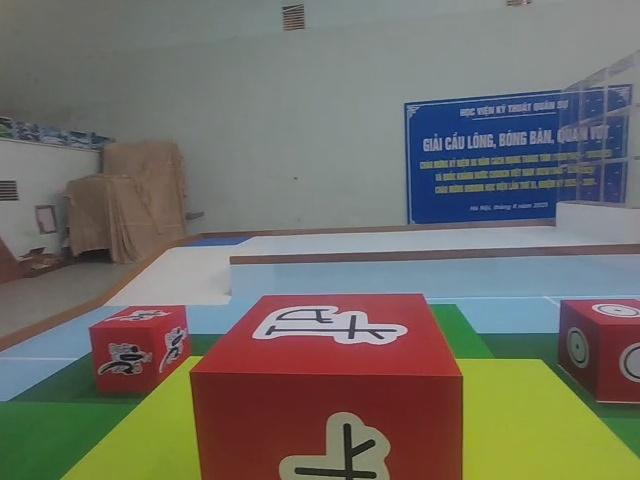R1: (90, 301, 193, 398)
R2 Real: (190, 288, 468, 480), (554, 296, 640, 406)
